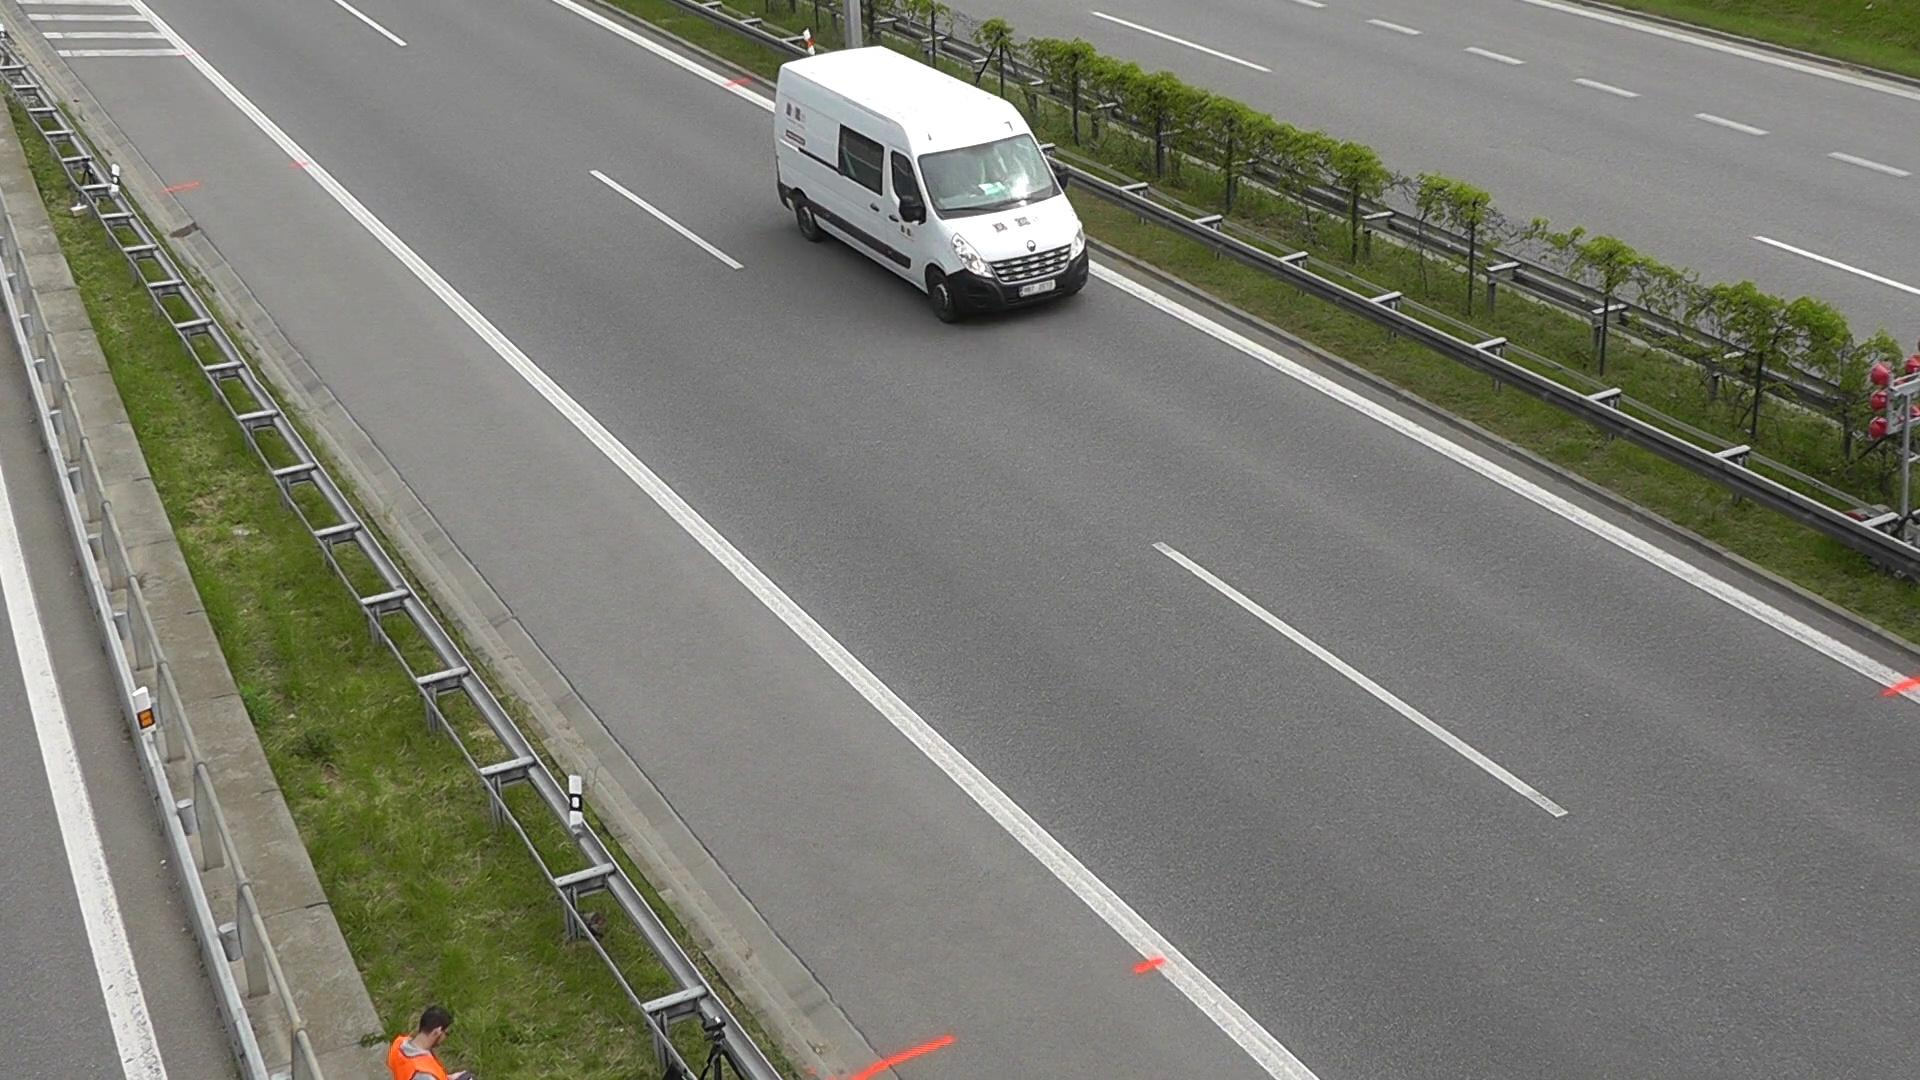Van: (731, 50, 1112, 331)
